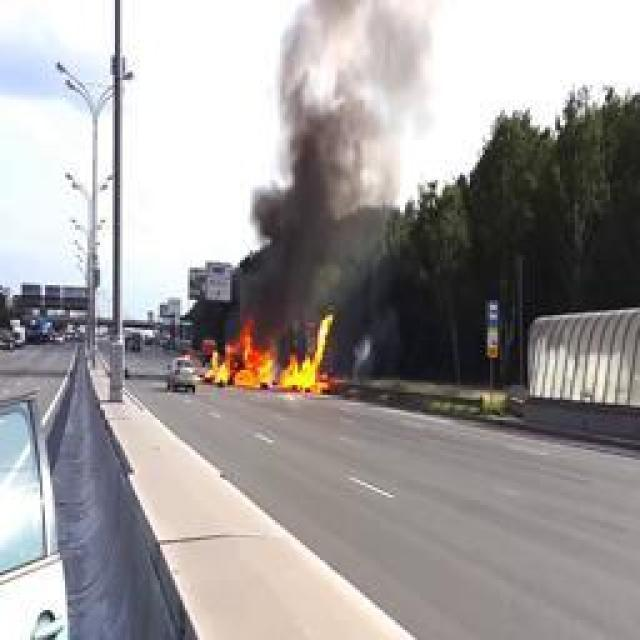Fire: (200, 314, 338, 396)
